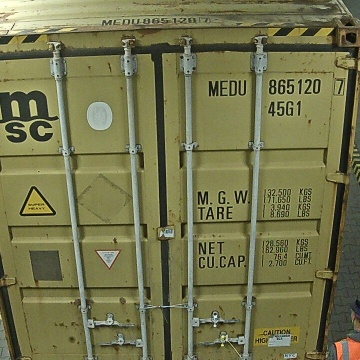serial_id: (208, 77, 345, 95)
